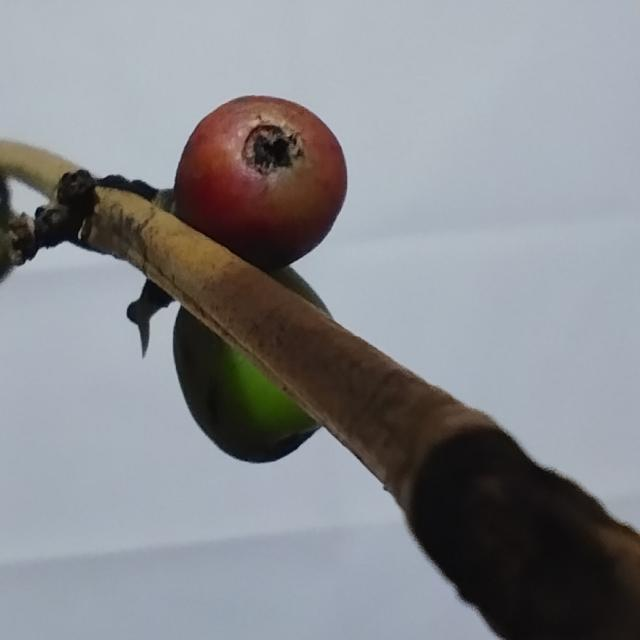Infectado: (173, 96, 347, 270)
